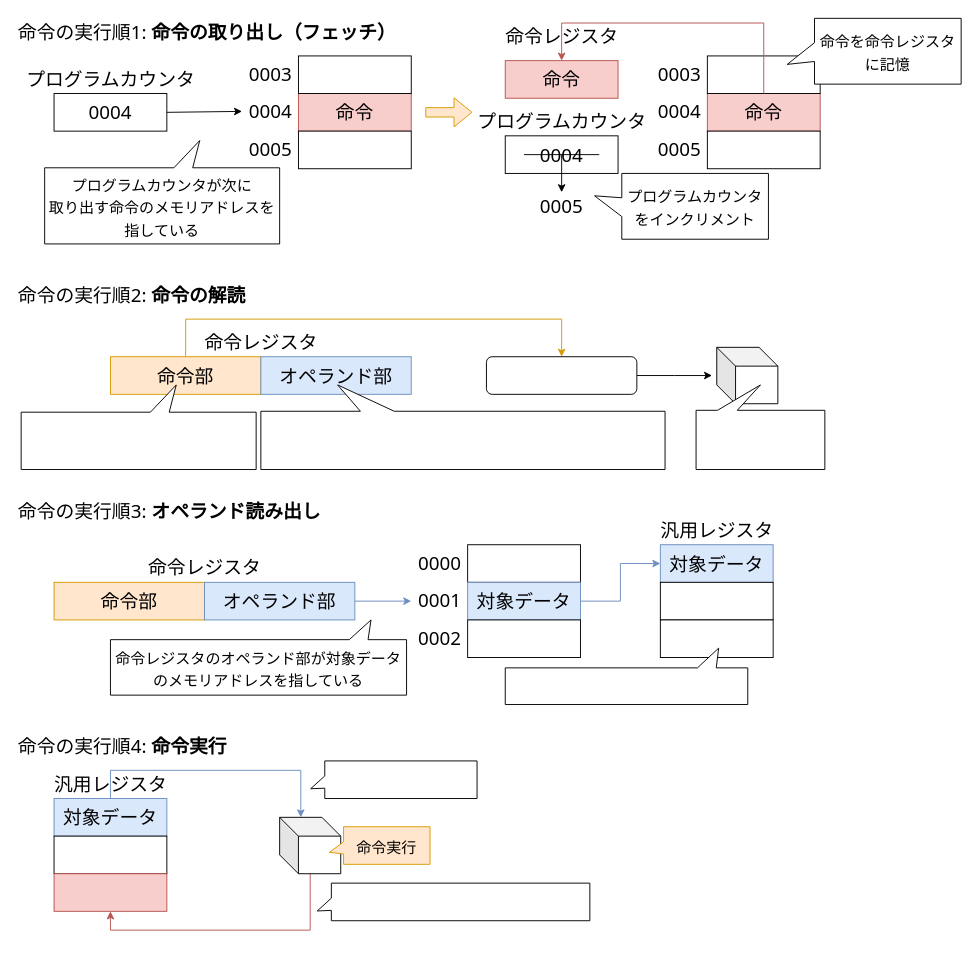
This 978x954 diagram has some shape labels left out. The centre of each missing label's shape, as x and y in pixels:
"データを汎用レジスタなどに記憶" goes at (626,676).
"処理対象となるデータを納めたメモリアドレスなどが格納されている（命令の種類によってはないこともある）" goes at (462,427).
"命令デコーダ" goes at (561,375).
"実行する命令の種類を示すコード番号が格納されている" goes at (138,427).
"対象データ読み出し" goes at (393,779).
"演算結果を汎用レジスタなどに記憶" goes at (453,901).
"演算装置（ALU）などで命令を処理" goes at (760,427).
"結果データ" goes at (110,892).
